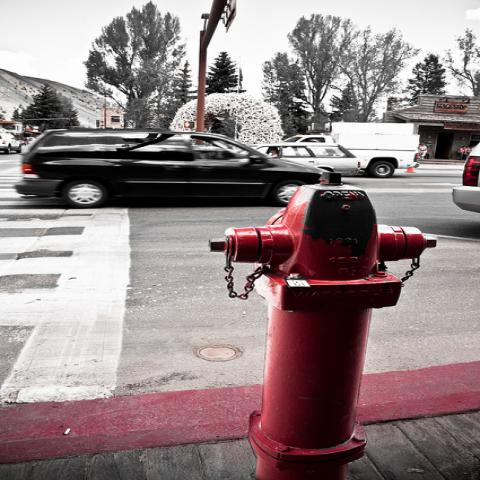car: (9, 128, 340, 209), (255, 143, 363, 174), (451, 142, 479, 214), (0, 134, 22, 154), (26, 137, 34, 141)
truck: (15, 126, 346, 205), (280, 135, 421, 178)
